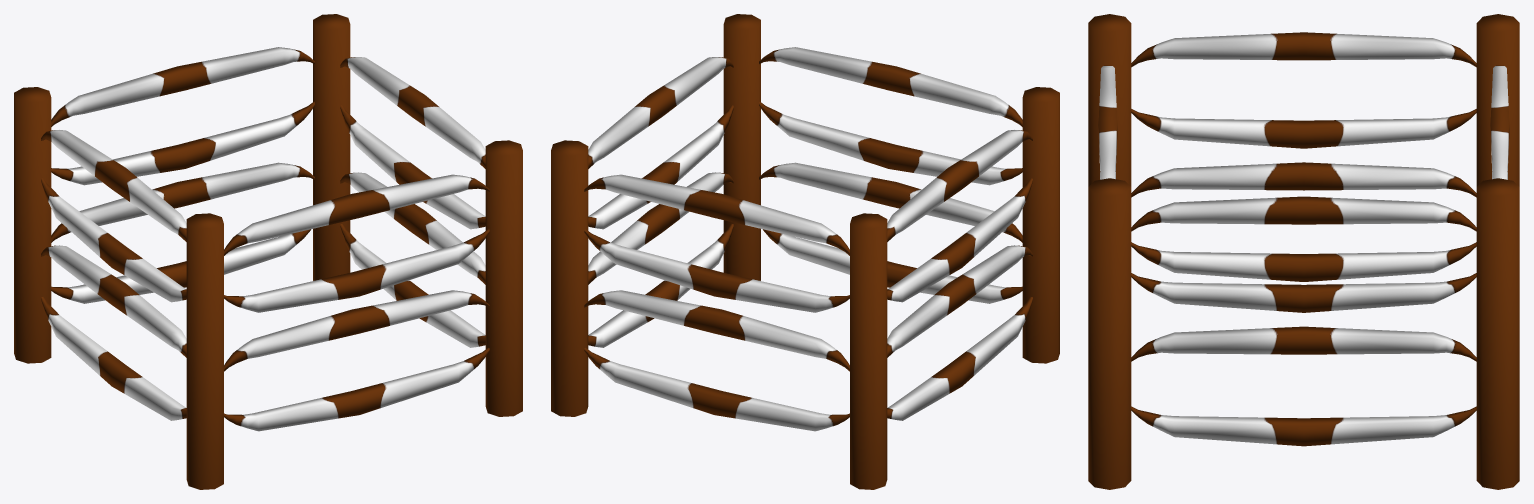
The model's file is constructionSite.fbx.
3 renders of one model, left to right at view 1: azimuth 30°, elevation 25°; view 2: azimuth 150°, elevation 25°; view 3: azimuth 270°, elevation 25°, orthographic. The views are drawn at different scales.
Visible parts, largest first — view 1: Cube_002; view 2: Cube_002; view 3: Cube_002.
Part boxes in pixels (x1,y1,x2,y2): Cube_002: (14,14,522,489); Cube_002: (551,14,1059,489); Cube_002: (1088,14,1519,489).
Size of the model in its own units: 2 by 1.5 by 2.
